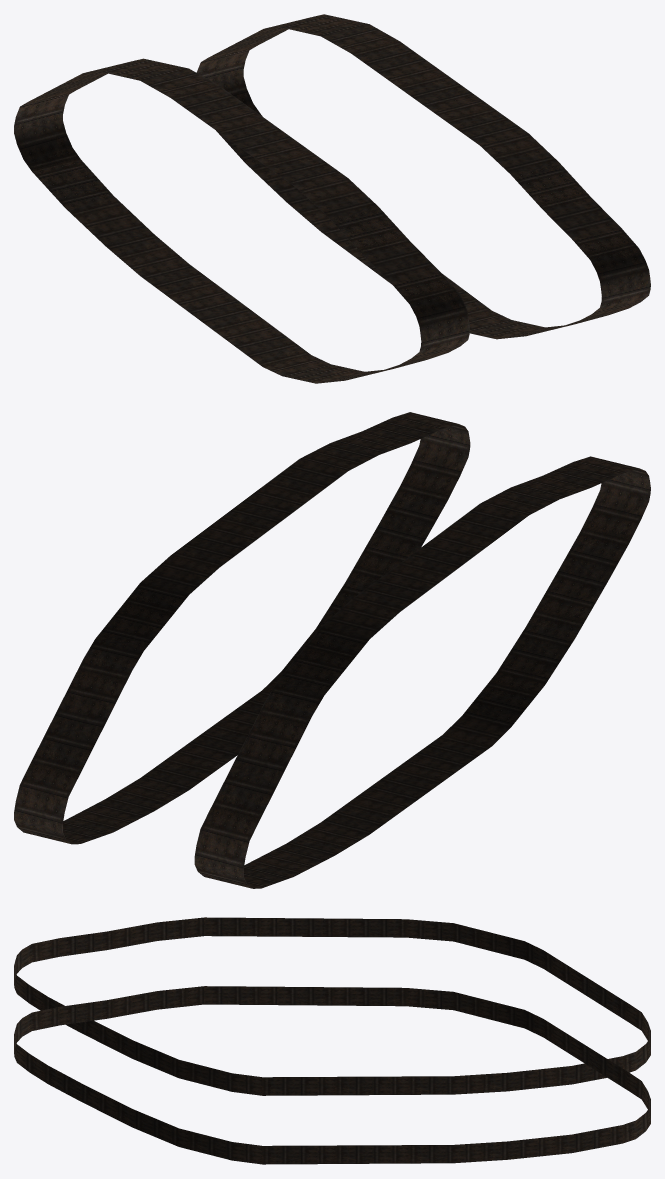
Rendered from tire.obj.
3 views of the same model, one above another, from view 1: azimuth 30°, elevation 25°; view 2: azimuth 150°, elevation 25°; view 3: azimuth 270°, elevation 25° (orthographic). The views are drawn at different scales.
Visible parts, largest first — view 1: tire; view 2: tire; view 3: tire.
Part boxes in pixels (x1,y1,x2,y2): tire: [14, 14, 650, 383]; tire: [14, 412, 650, 888]; tire: [14, 917, 650, 1164].
Bounding box in the file's own units: 0.0762 × 0.0649 × 0.234.
Materials: 1 (1 with a texture image).
